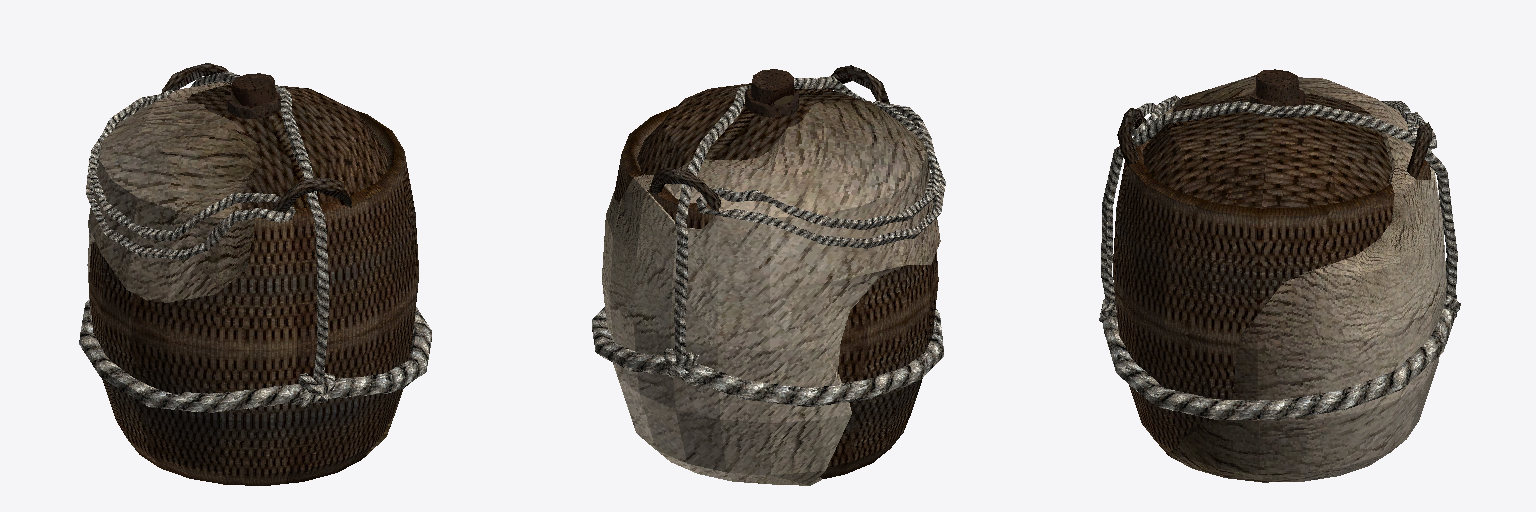
The picture shows the model from 3 angles: view 1: azimuth 30°, elevation 25°; view 2: azimuth 150°, elevation 25°; view 3: azimuth 270°, elevation 25°; orthographic projection.
Parts seen in each view (by area): view 1: fish_basket_1; view 2: fish_basket_1; view 3: fish_basket_1.
Boxes of the visible parts, <box> form: fish_basket_1: <box>79,63,431,485</box>; fish_basket_1: <box>592,65,945,485</box>; fish_basket_1: <box>1099,69,1460,482</box>.
Size of the model in its own units: 23.51 by 25.99 by 23.93.
Materials: 3 (3 with a texture image).